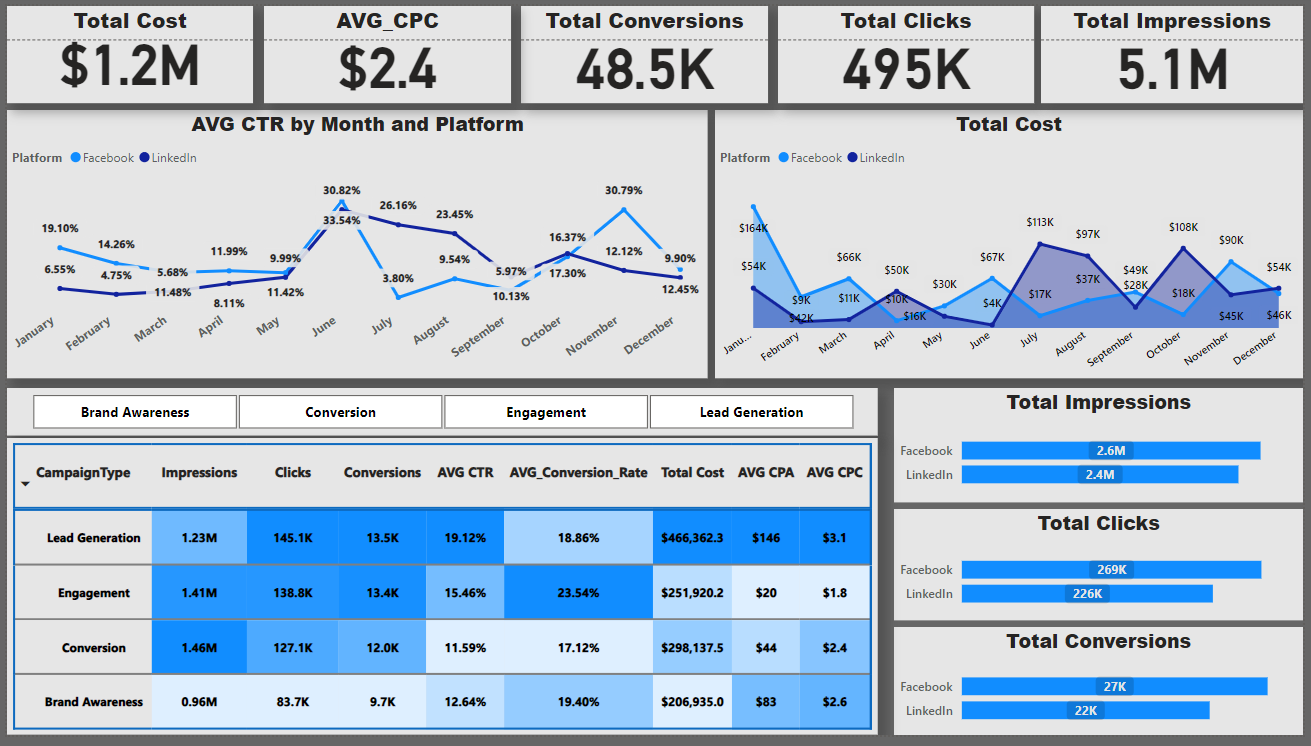

The dashboard page shown, as its layout file describes it:
{"tool":"powerbi","page":{"name":"Main","canvas":[1280,720],"ordinal":0},"visuals":[{"type":"lineChart","fields":{"Category":["Table1.StartDate.Variation.Date Hierarchy.Month"],"Y":["Table.AVG CTR"],"Series":["Table1.Platform"]},"box":[0,102.8,692.3,265.3],"z":0},{"type":"lineChart","title":" Total Cost ","fields":{"Category":["Table1.StartDate.Variation.Date Hierarchy.Month"],"Y":["Sum(Table1.TotalCost)"],"Series":["Table1.Platform"]},"box":[699.3,102.8,580.7,265.3],"z":1000},{"type":"card","title":"Total Conversions","fields":{"Values":["Sum(Table1.Conversions)"]},"box":[507.8,0,244.2,95.8],"z":2000},{"type":"card","title":"Total Clicks","fields":{"Values":["Sum(Table1.Clicks)"]},"box":[761.7,0,253,95.8],"z":3000},{"type":"card","title":"Total  Impressions","fields":{"Values":["Sum(Table1.Impressions)"]},"box":[1020.8,0,259.2,95.8],"z":4000},{"type":"card","title":"Total Cost","fields":{"Values":["Sum(Table1.TotalCost)"]},"box":[0,0,243.3,95.8],"z":5000},{"type":"card","title":"AVG_CPC","fields":{"Values":["Table.AVG CPC"]},"box":[253.9,0,244.2,95.8],"z":6000},{"type":"slicer","fields":{"Values":["Table1.CampaignType"]},"box":[0,376.9,860.1,46.6],"z":7000},{"type":"clusteredBarChart","title":"Total Conversions ","fields":{"Category":["Table1.Platform"],"Y":["Sum(Table1.Conversions)"]},"box":[875.9,613.2,404.1,107.2],"z":8000},{"type":"clusteredBarChart","title":"Total Clicks ","fields":{"Category":["Table1.Platform"],"Y":["Sum(Table1.Clicks)"]},"box":[875.9,496.4,404.1,109.8],"z":9000},{"type":"clusteredBarChart","title":"Total Impressions","fields":{"Category":["Table1.Platform"],"Y":["Sum(Table1.Impressions)"]},"box":[875.9,376.9,404.1,113.3],"z":10000},{"type":"tableEx","fields":{"Values":["Table1.CampaignType","Sum(Table1.Impressions)","Sum(Table1.Clicks)","Sum(Table1.Conversions)","Table.AVG CTR","Avg(Table1.ConversionRate)","Sum(Table1.TotalCost)","Table.AVG CPA","Table.AVG CPC"]},"box":[0,427,860.1,293.4],"z":11000}]}

Visuals, with their boxes in screenshot pixels (x1, y1, x2, y2), scaled from the page's 1280x720 canvas onto the 1311x746 screenshot:
lineChart - Table1.StartDate.Variation.Date Hierarchy.Month x Table.AVG CTR: [0, 107, 709, 381]
" Total Cost " lineChart: [716, 107, 1310, 381]
"Total Conversions" card: [520, 0, 770, 99]
"Total Clicks" card: [780, 0, 1039, 99]
"Total  Impressions" card: [1046, 0, 1310, 99]
"Total Cost" card: [0, 0, 249, 99]
"AVG_CPC" card: [260, 0, 510, 99]
slicer - Table1.CampaignType: [0, 391, 881, 439]
"Total Conversions " clusteredBarChart: [897, 635, 1310, 745]
"Total Clicks " clusteredBarChart: [897, 514, 1310, 628]
"Total Impressions" clusteredBarChart: [897, 391, 1310, 508]
tableEx - Table1.CampaignType x Sum(Table1.Impressions): [0, 442, 881, 745]
